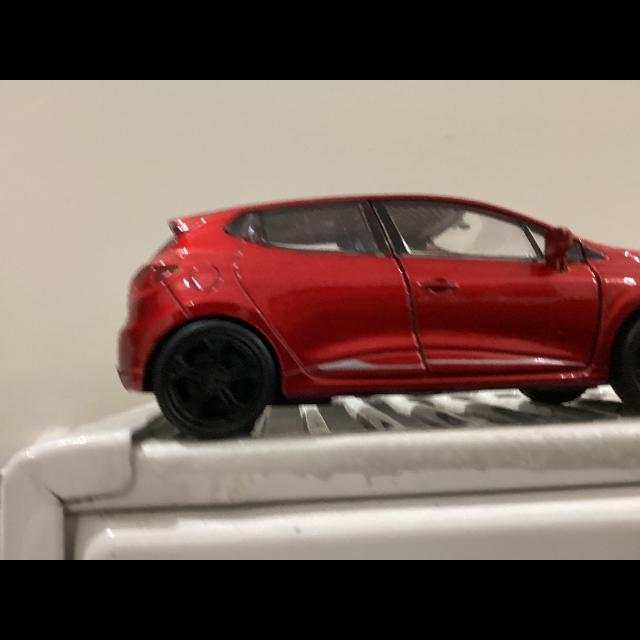Dogru_Jant: (172, 341, 258, 425)
